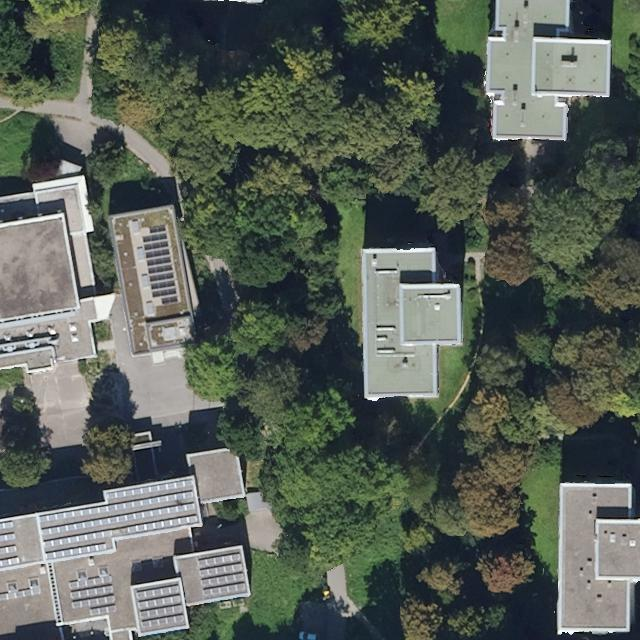PV: (35, 475, 201, 563), (138, 222, 181, 307), (132, 582, 188, 634), (194, 550, 249, 600), (66, 573, 120, 618), (0, 583, 47, 603)
